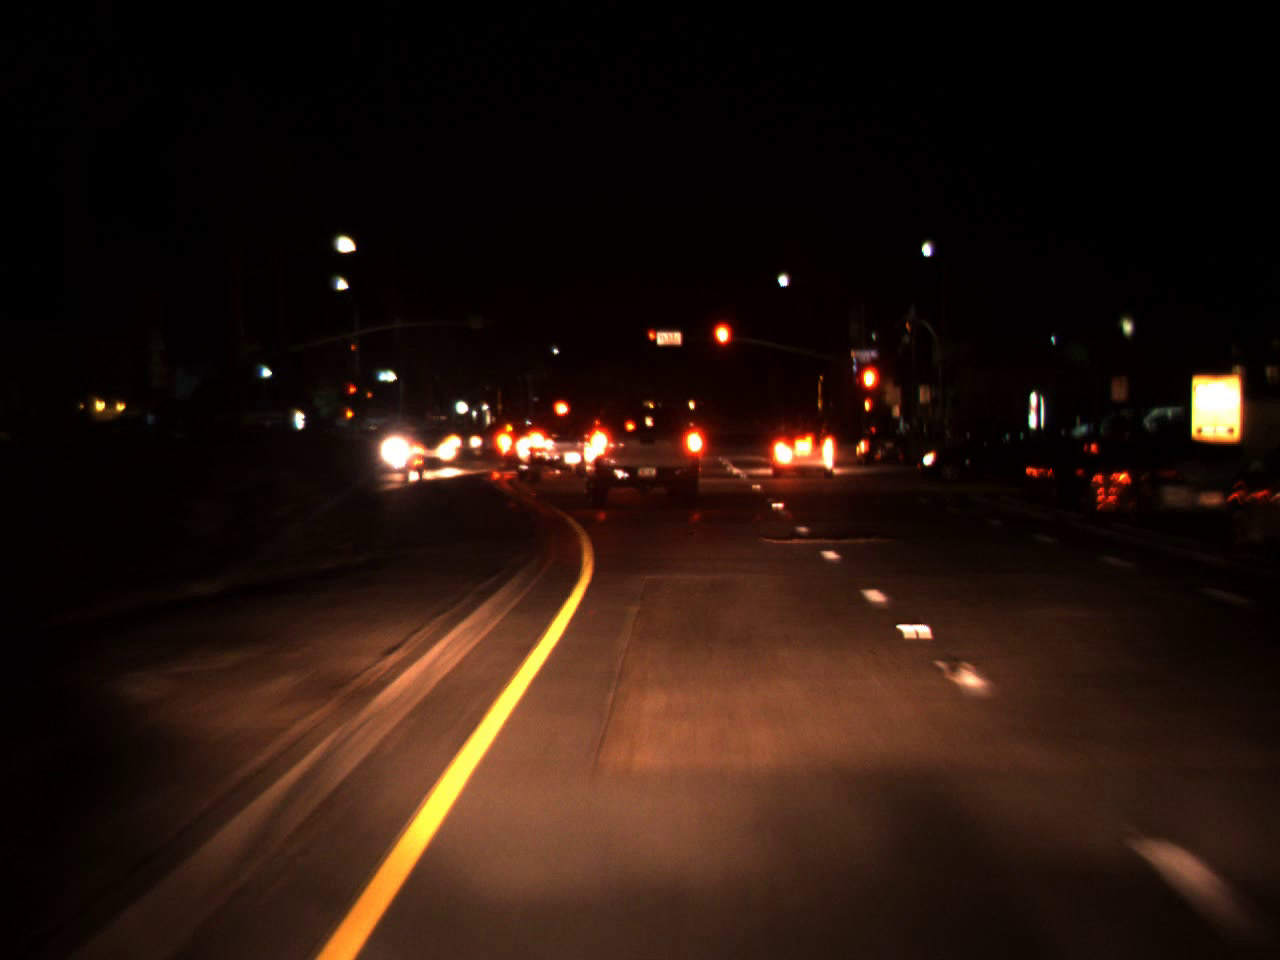stop: (858, 361, 882, 419), (711, 319, 735, 373), (647, 330, 657, 351), (348, 384, 357, 402)
